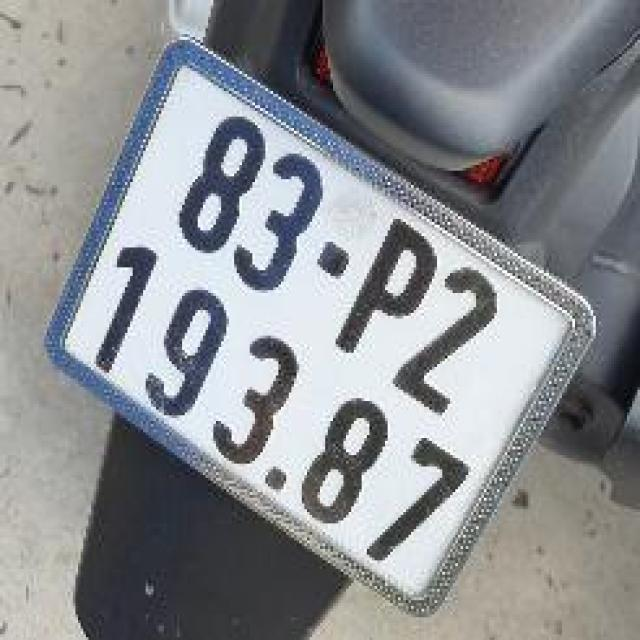1: (67, 213, 177, 385)
2: (365, 240, 531, 451)
3: (193, 321, 322, 487), (217, 136, 334, 317)
7: (347, 420, 489, 592)
8: (165, 98, 279, 265), (288, 385, 407, 539)
9: (121, 259, 255, 456)
P: (313, 203, 465, 395)
